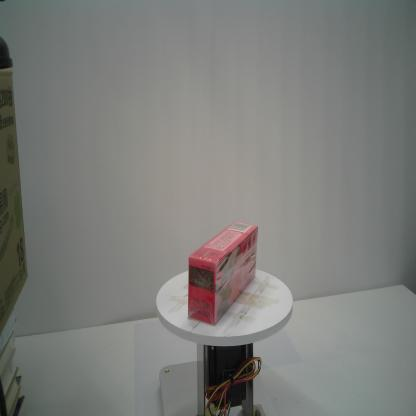Instant Drink: (186, 221, 258, 327)
